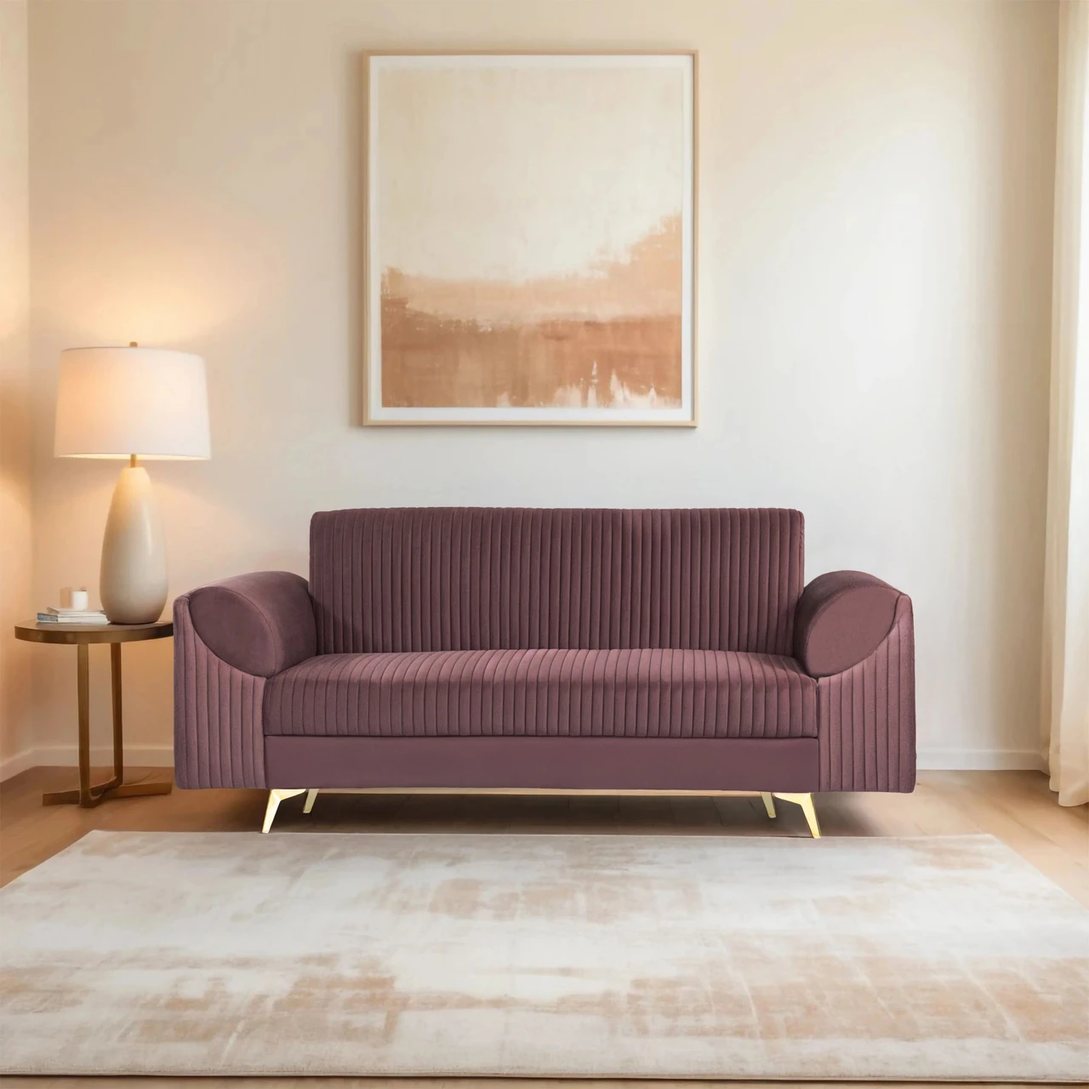3seatersofa: (174, 507, 915, 838)
backrest: (309, 508, 803, 655)
base: (265, 736, 835, 788)
leftarmrest: (795, 571, 915, 790)
leg: (262, 786, 821, 837)
rightarmrest: (174, 573, 316, 788)
seat: (265, 648, 816, 739)
